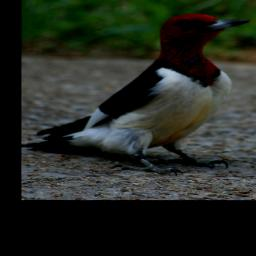Woodpecker: (21, 13, 256, 174)
